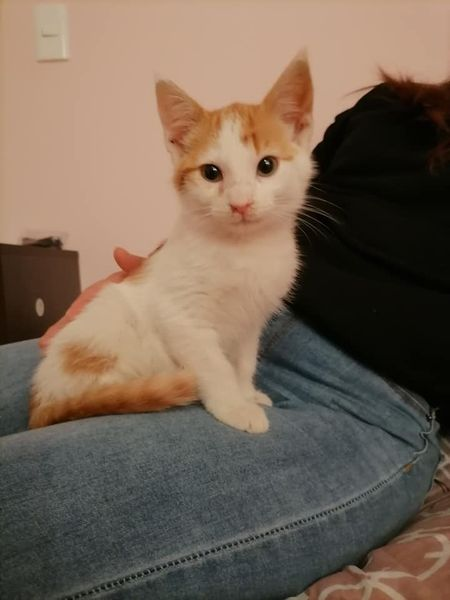cat: (29, 46, 329, 454)
